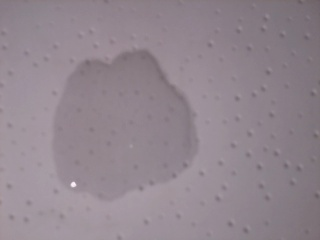Water_detected: (67, 76, 179, 180)
